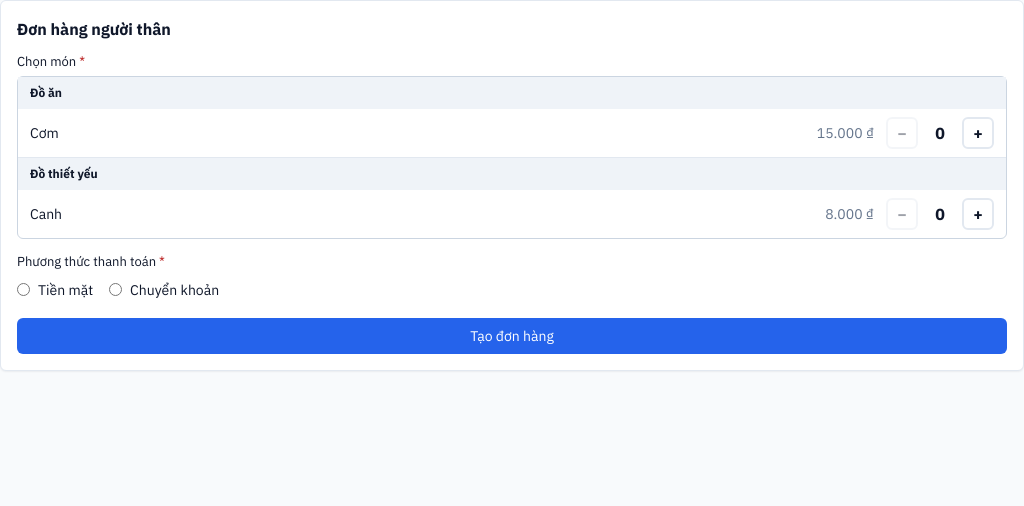
it: RelativeOrderForm — running total › shows running total once an item is ordered
Click the button "+" in the row of "15.000 ₫": {"x": 978, "y": 133} [962,117,994,149]
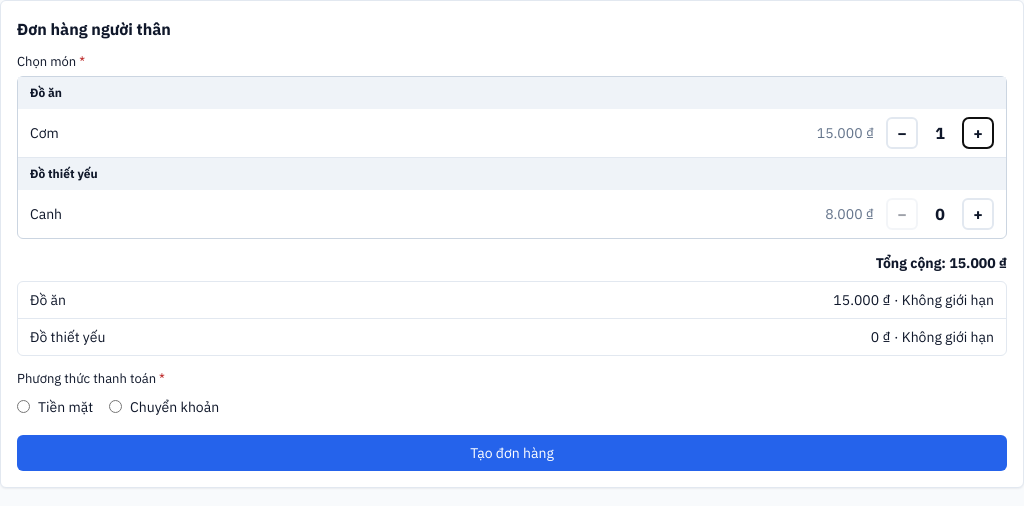
expect the text "Tổng cộng: 15.000 ₫" is shown: met, box [876,254,1007,272]
